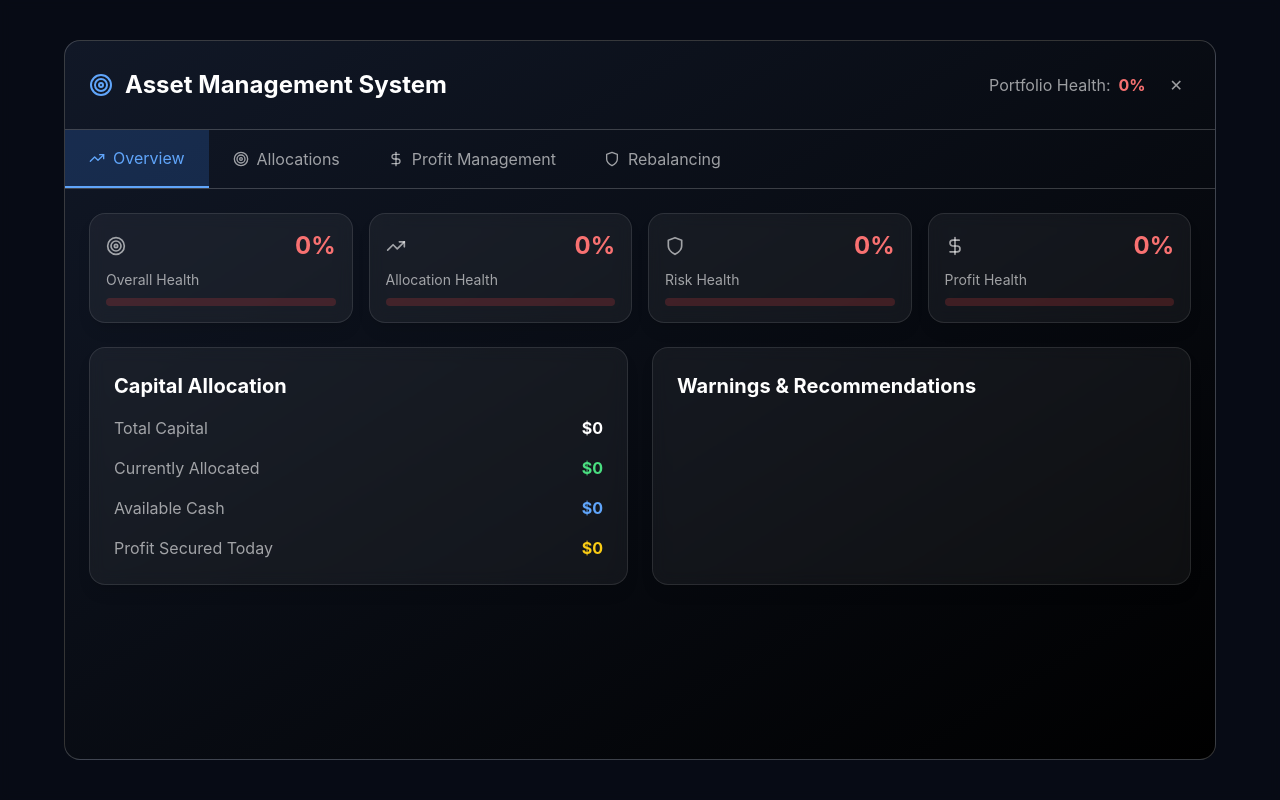
Test case: AssetManagerPanel › handles empty rebalancing suggestions gracefully
What coordinates should you click on to do the following:
click the button "Rebalancing"
I would click on:
 (662, 159)
Its box is [580,130,745,188].
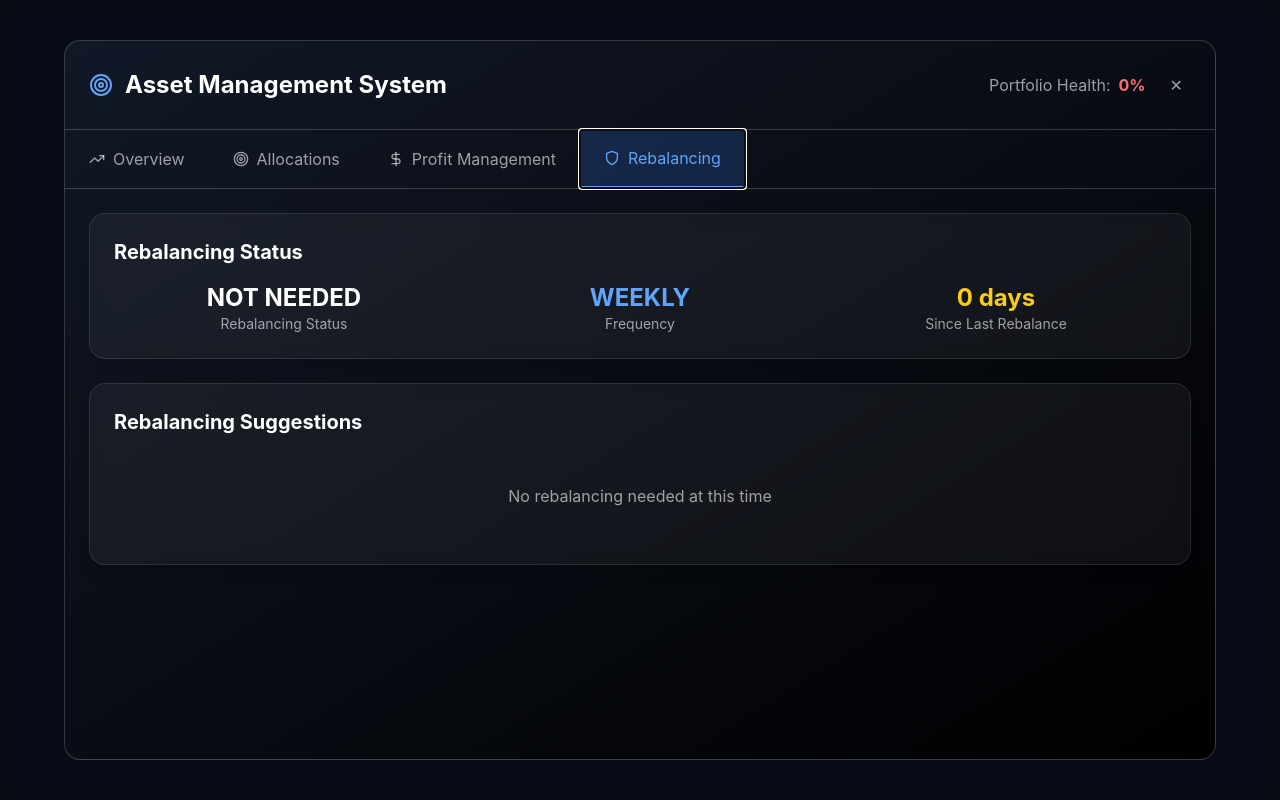
Now the text "No rebalancing needed at this time" is shown, box [508,486,772,506]
